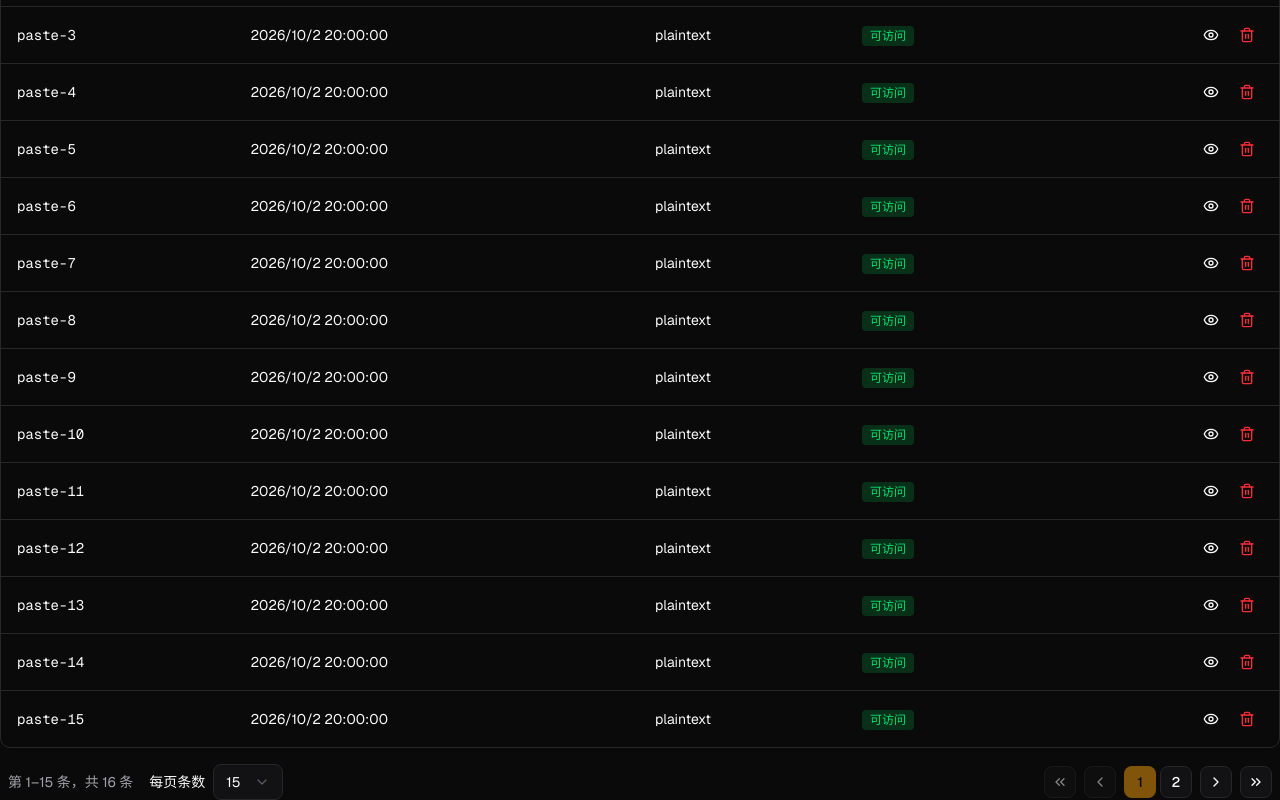
Test case: PastesTable › 删除末页唯一记录后回到前页，并保持分页可用
(page scrolled)
Step 1. Click the 3rd button named "下一页" → (1216, 782), box [1200, 766, 1232, 798]
(page scrolled)
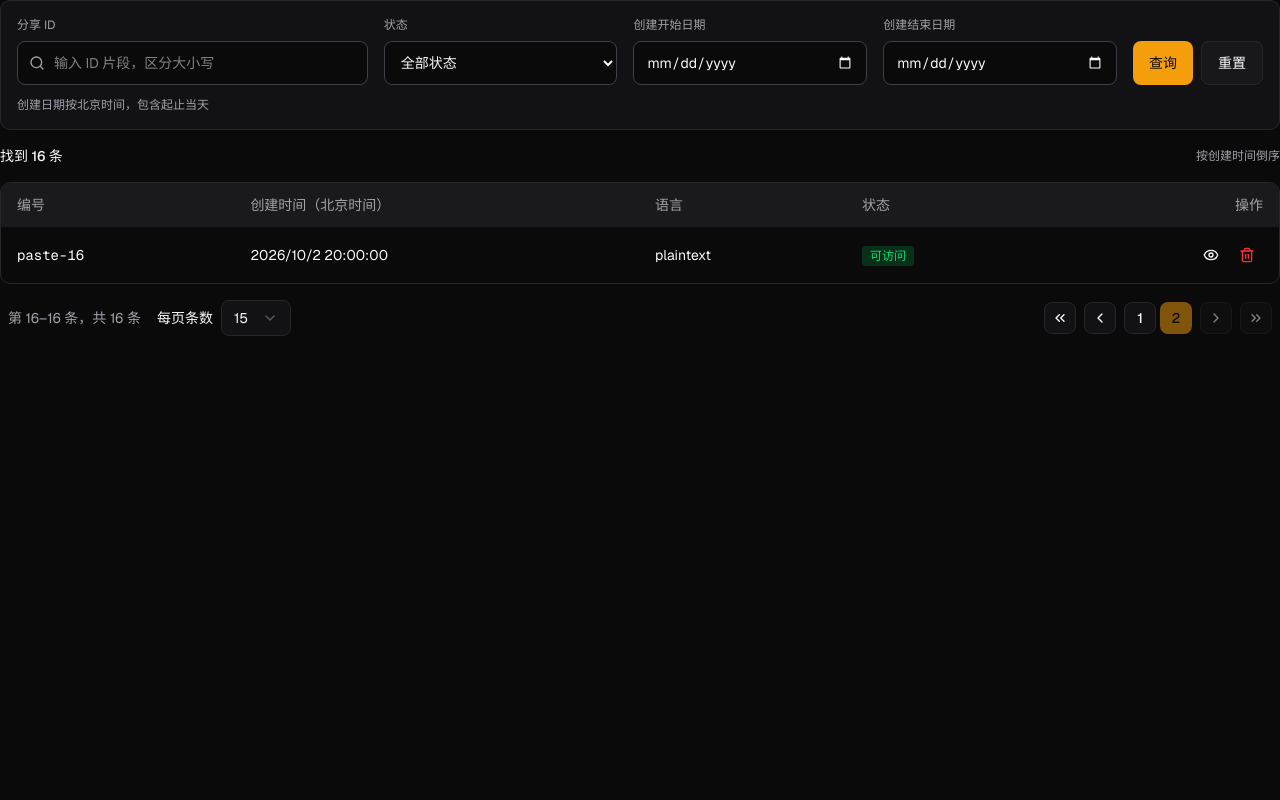
Now the text "paste-16" is shown, box [17, 246, 84, 264]
Step 2. Click the button named "删除 paste-16" → (1247, 255), box [1231, 239, 1263, 271]
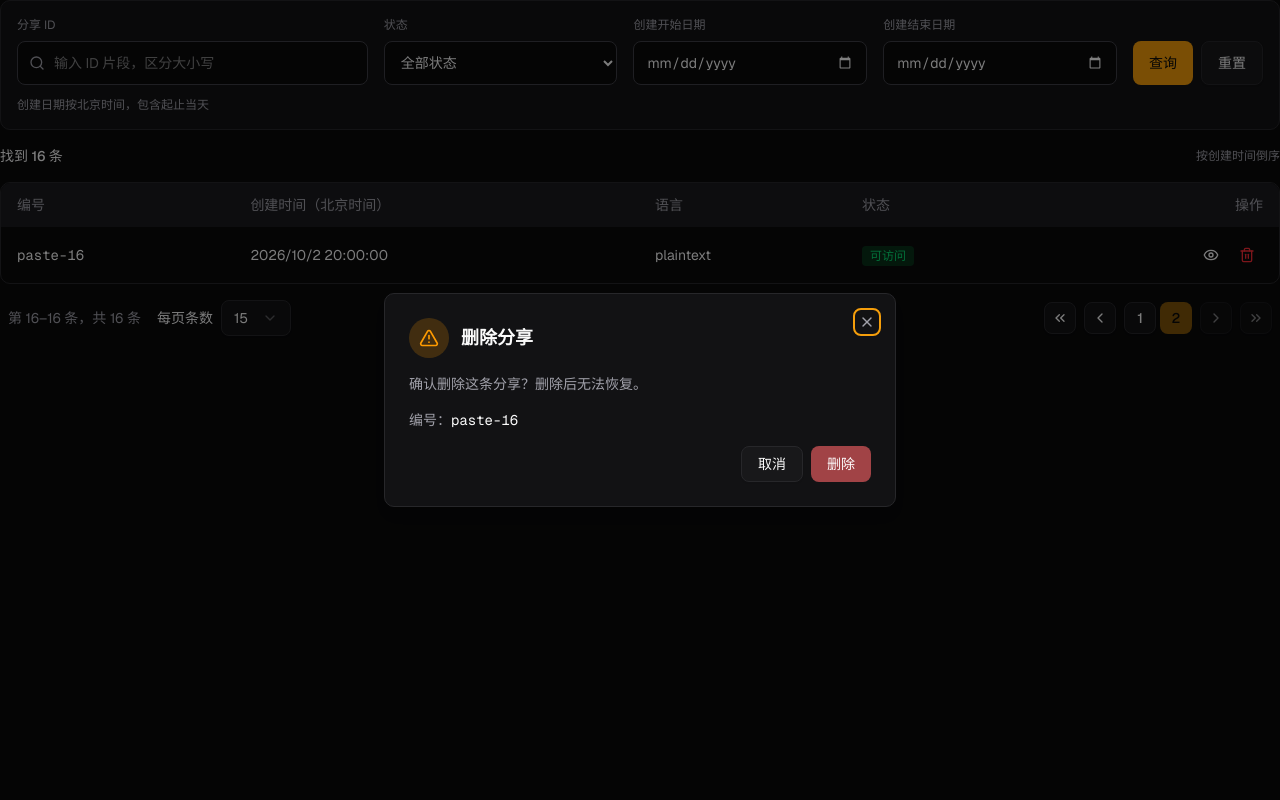
Step 3. Click the button "删除" → (841, 464), box [811, 446, 871, 482]
(page scrolled)
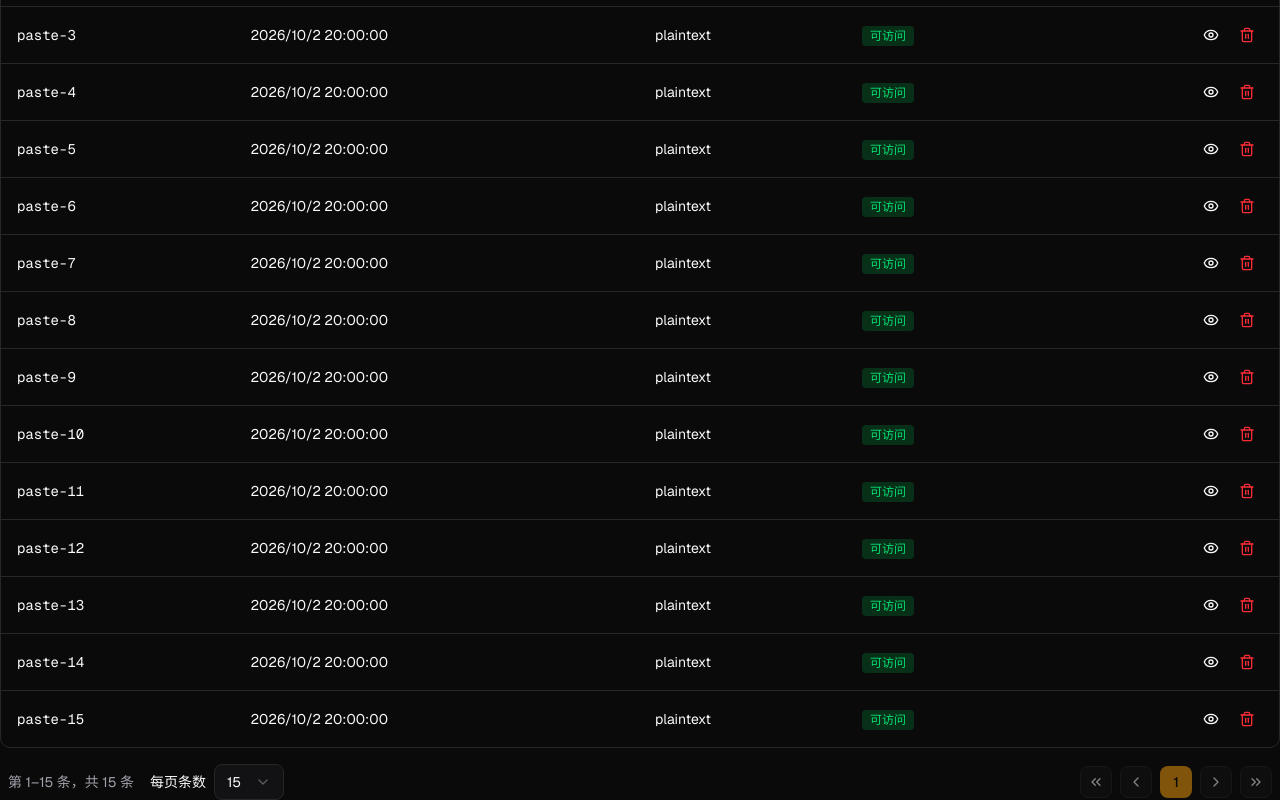
Expected: the 2nd button named "上一页" is disabled, [1120, 766, 1152, 798]
Now the text "第 1–15 条，共 15 条" is shown, box [8, 772, 134, 792]
